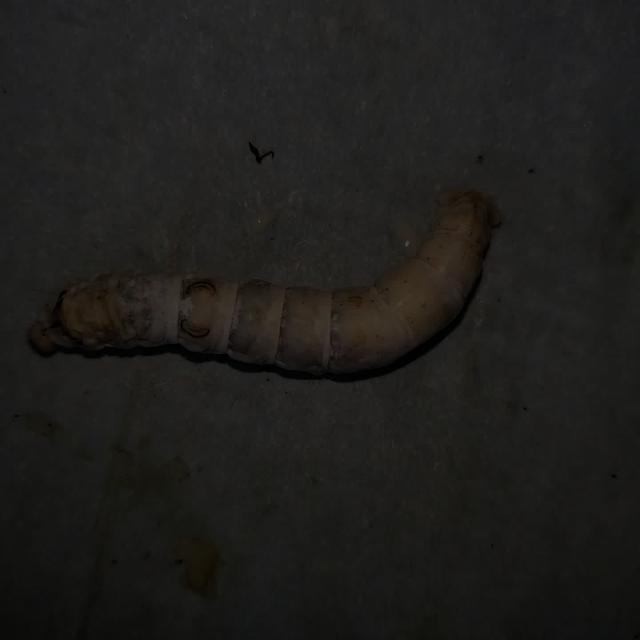Grasserie: (18, 147, 519, 425)
